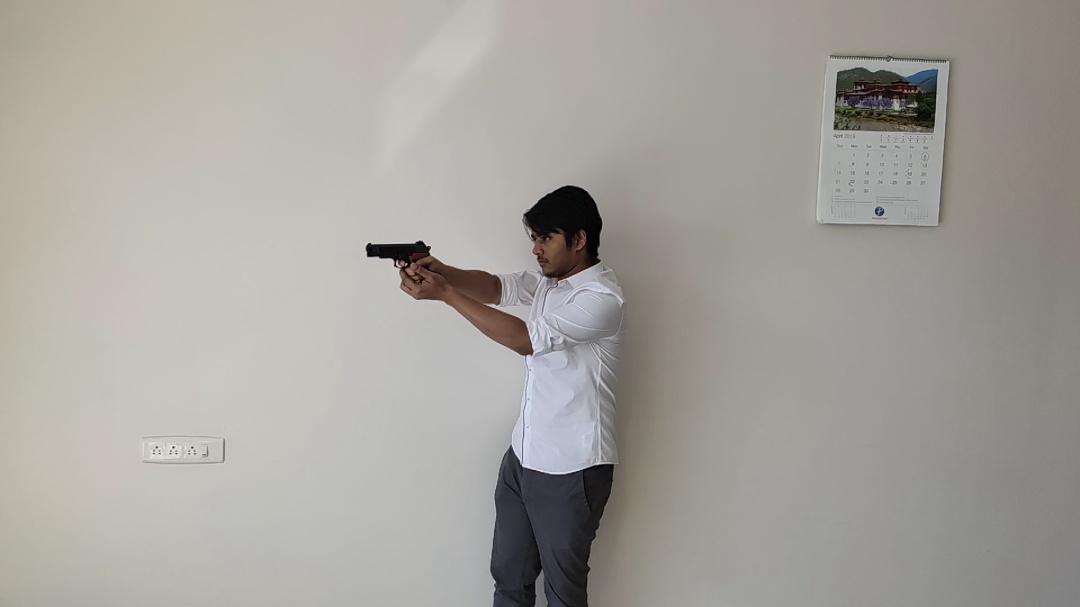gun: (365, 240, 432, 279)
